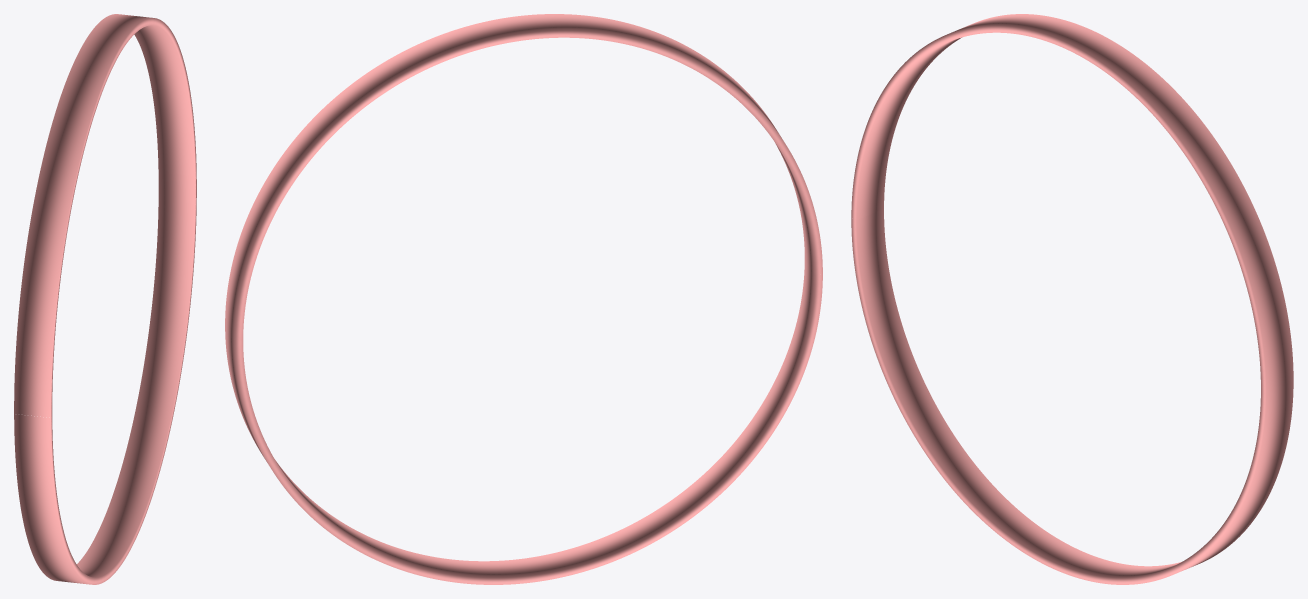
Rendered from coil_coil_2_tube.gltf.
3 renders of one model, left to right at view 1: azimuth 30°, elevation 25°; view 2: azimuth 150°, elevation 25°; view 3: azimuth 270°, elevation 25°, orthographic. The views are drawn at different scales.
Parts seen in each view (by area): view 1: Renderer Node; view 2: Renderer Node; view 3: Renderer Node.
Part boxes in pixels (<box>): Renderer Node: <box>14,14,196,584</box>; Renderer Node: <box>225,14,822,584</box>; Renderer Node: <box>851,14,1293,584</box>.
Size of the model in its own units: 0.4574 by 0.6082 by 0.459.
